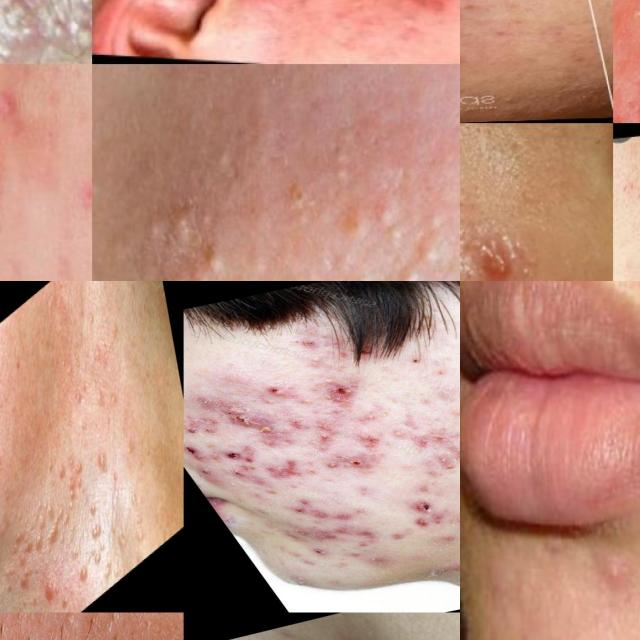acne_scars: (274, 513, 391, 555), (271, 485, 362, 529), (406, 426, 460, 484), (247, 454, 324, 494), (384, 493, 453, 536), (400, 0, 452, 25)
comedone: (128, 507, 150, 557), (61, 487, 80, 529), (621, 0, 640, 34)
keloid: (89, 513, 109, 567), (76, 558, 93, 594), (45, 520, 61, 556)
milium: (358, 191, 455, 264), (138, 206, 199, 258), (192, 242, 244, 281), (209, 143, 245, 180), (314, 267, 392, 281), (388, 268, 430, 281)
papule: (0, 79, 33, 119), (39, 568, 62, 612)
pustule: (45, 6, 92, 60), (0, 0, 42, 44), (616, 539, 634, 607), (64, 0, 92, 22)
sebo-crystan-conglo: (192, 386, 296, 448), (460, 233, 516, 281), (262, 381, 296, 407)
